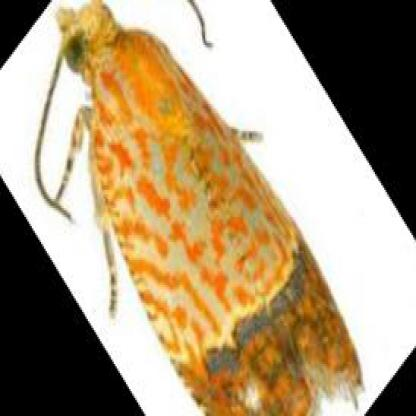Leaf Webber: (51, 0, 367, 414)
